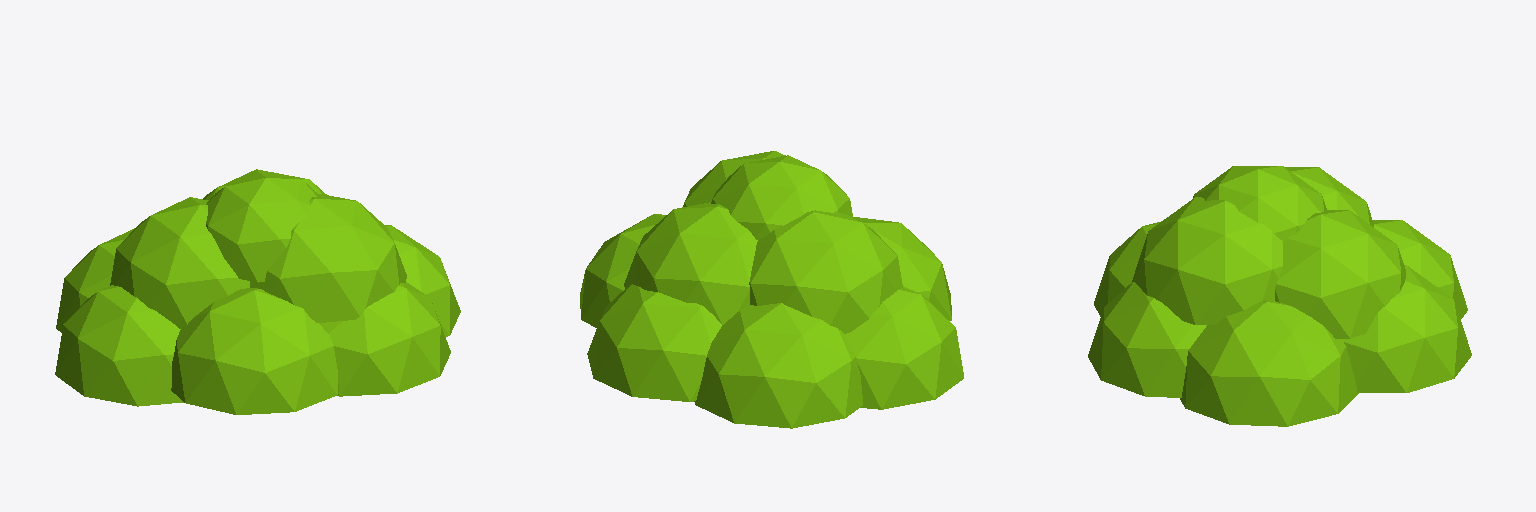
File: grass.obj
3 views of the same model, side by side, from view 1: azimuth 30°, elevation 25°; view 2: azimuth 150°, elevation 25°; view 3: azimuth 270°, elevation 25° (orthographic).
Parts seen in each view (by area): view 1: ICO球; view 2: ICO球; view 3: ICO球.
Part boxes in pixels (x1,y1,x2,y2): ICO球: (55, 169, 460, 414); ICO球: (580, 151, 963, 428); ICO球: (1088, 166, 1471, 426).
Size of the model in its own units: 4.48 by 2.01 by 4.06.